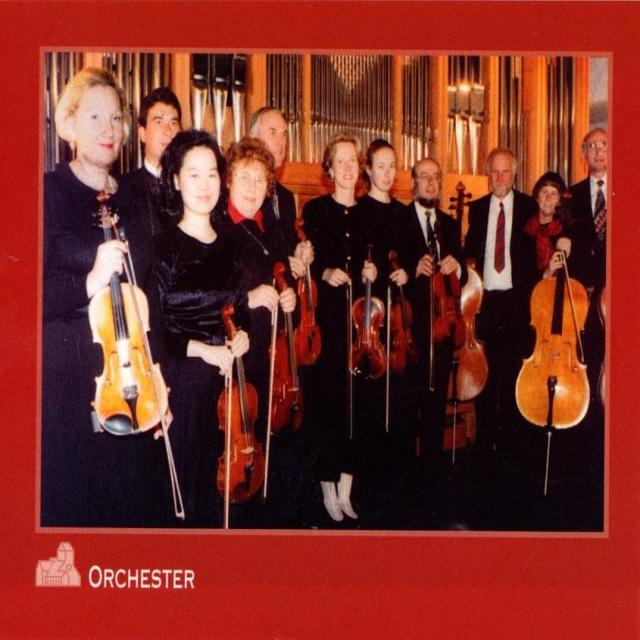cello: (515, 191, 594, 433), (443, 182, 493, 396)
violin: (86, 188, 172, 436), (212, 304, 269, 504), (266, 262, 306, 438), (429, 215, 470, 356), (348, 242, 387, 384), (288, 218, 324, 366), (385, 250, 421, 379)
